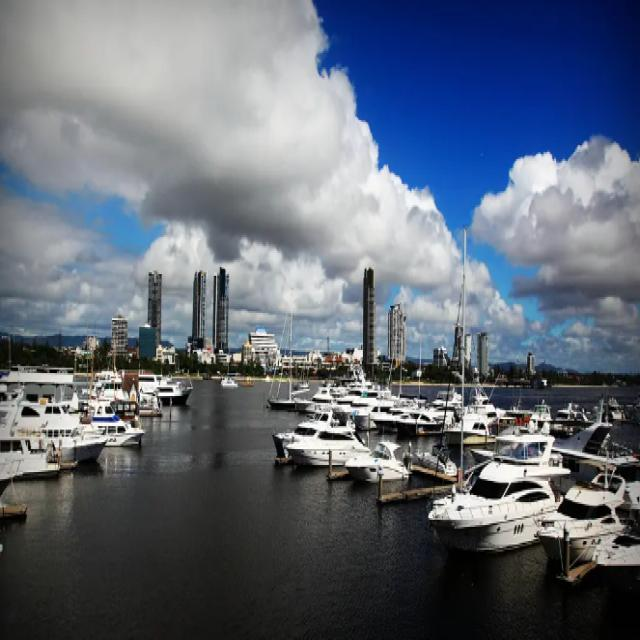houseboat: (426, 418, 550, 562), (266, 385, 358, 480)
